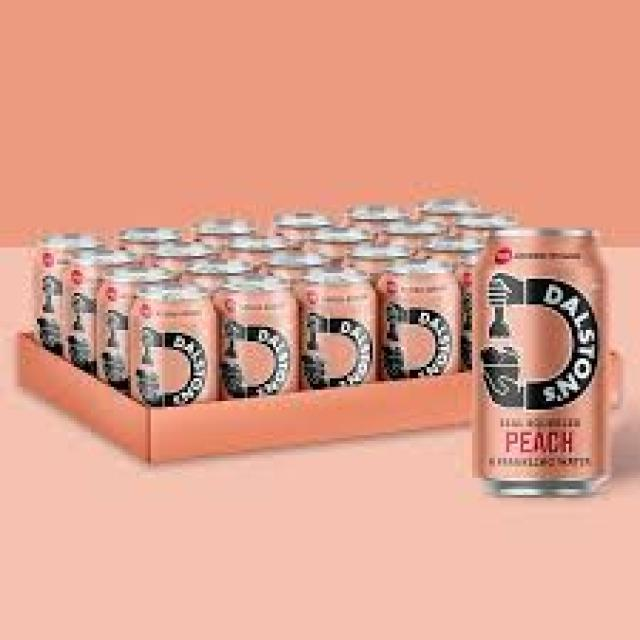Cans: (467, 214, 620, 504)
